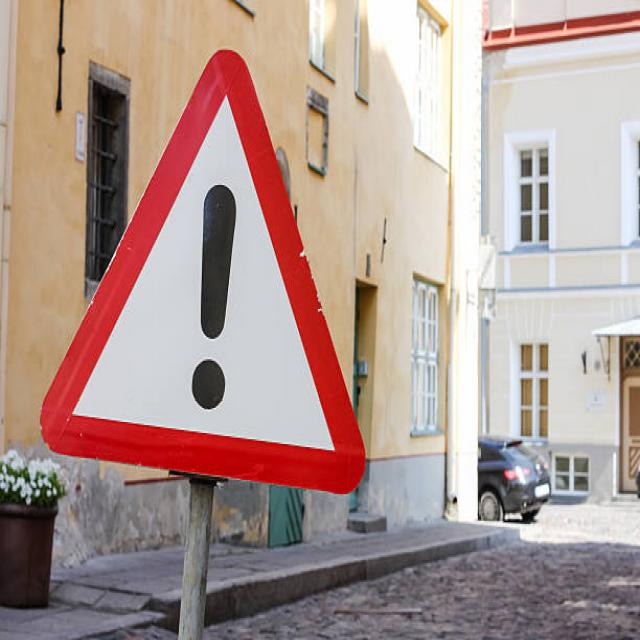warning: (34, 39, 379, 506)
